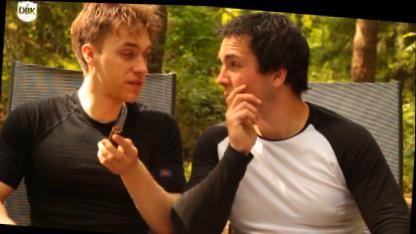knife: (92, 90, 144, 164)
